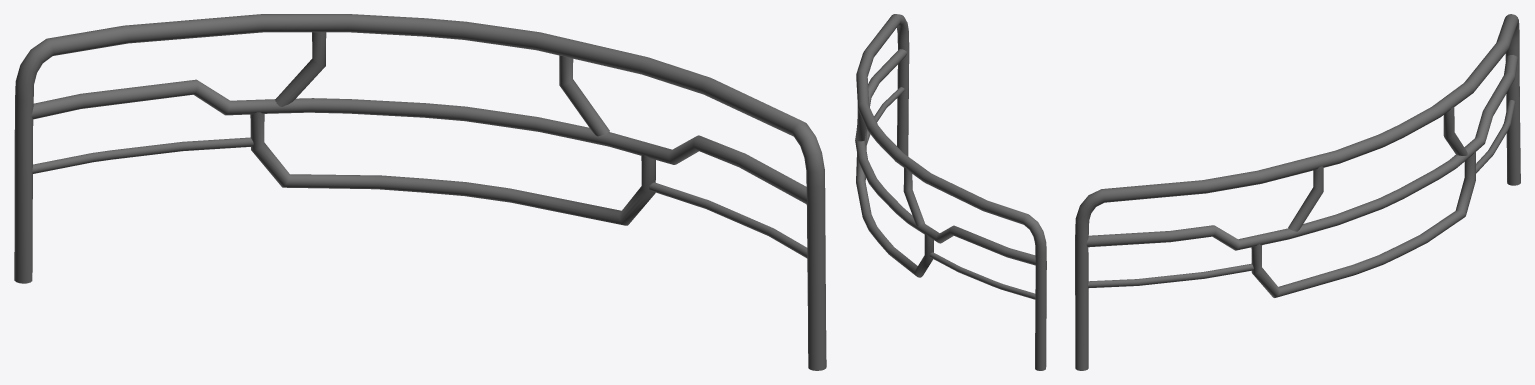
The model's file is sf_railing_round_small.glb.
3 renders of one model, left to right at view 1: azimuth 30°, elevation 25°; view 2: azimuth 150°, elevation 25°; view 3: azimuth 270°, elevation 25°, orthographic. The views are drawn at different scales.
Visible parts, largest first — view 1: Prop_Rail_Round_Small; view 2: Prop_Rail_Round_Small; view 3: Prop_Rail_Round_Small.
Boxes of the visible parts, x1,y1,x2,y2 form: Prop_Rail_Round_Small: [14, 14, 826, 370]; Prop_Rail_Round_Small: [855, 14, 1046, 370]; Prop_Rail_Round_Small: [1075, 14, 1520, 370].
Bounding box in the file's own units: 1.99 × 0.8623 × 1.97.
1 material, 1 textured.
